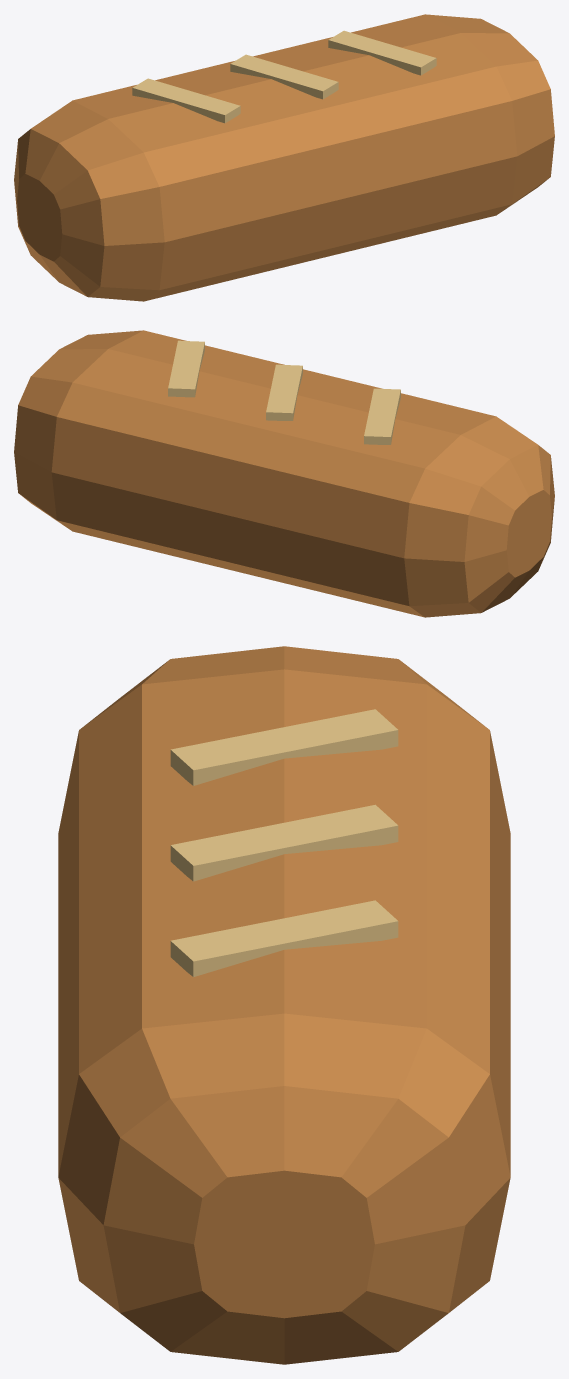
File: FD_BreadLoaf_01.glb
3 views of the same model, one above another, from view 1: azimuth 30°, elevation 25°; view 2: azimuth 150°, elevation 25°; view 3: azimuth 270°, elevation 25° (orthographic). The views are drawn at different scales.
Parts seen in each view (by area): view 1: FD_BreadLoaf_01; view 2: FD_BreadLoaf_01; view 3: FD_BreadLoaf_01.
Boxes of the visible parts, x1,y1,x2,y2 form: FD_BreadLoaf_01: [14, 14, 554, 301]; FD_BreadLoaf_01: [14, 330, 554, 617]; FD_BreadLoaf_01: [58, 646, 510, 1364].
Size of the model in its own units: 0.25 by 0.0815 by 0.1.
Materials: 1 (1 with a texture image).
